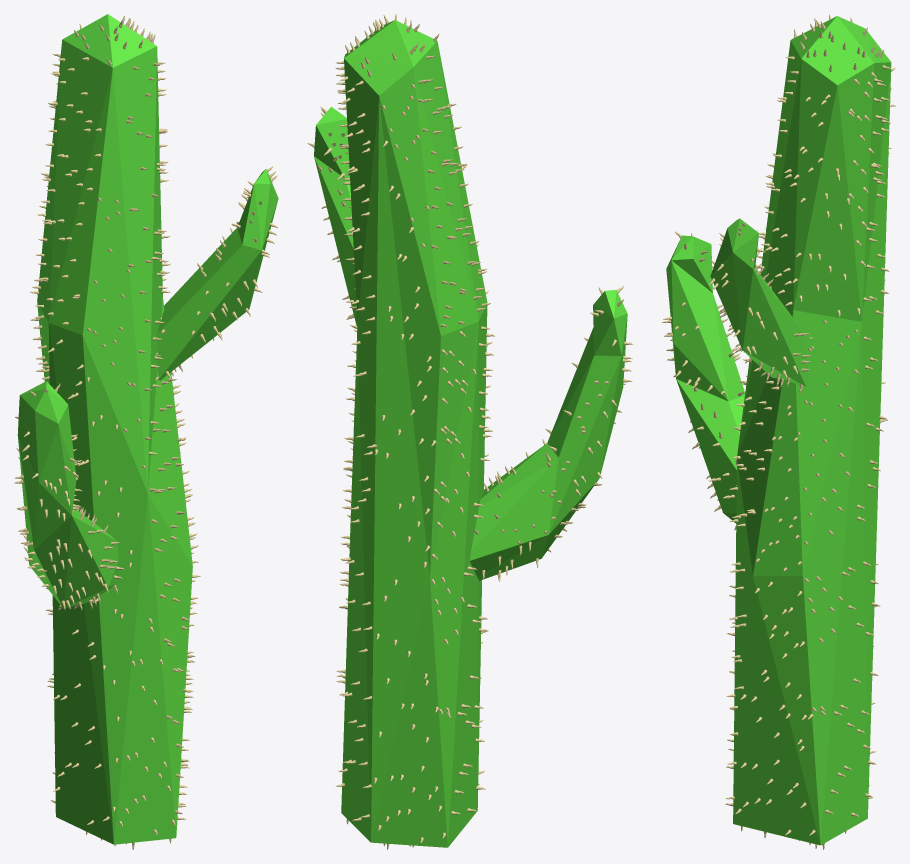
The model's file is cactus.fbx.
3 renders of one model, left to right at view 1: azimuth 30°, elevation 25°; view 2: azimuth 150°, elevation 25°; view 3: azimuth 270°, elevation 25°, orthographic. The views are drawn at different scales.
Parts seen in each view (by area): view 1: Cylinder; view 2: Cylinder; view 3: Cylinder.
Boxes of the visible parts, bbox=[...] form: Cylinder: bbox=[17, 14, 278, 844]; Cylinder: bbox=[314, 20, 627, 847]; Cylinder: bbox=[666, 16, 891, 845].
Bounding box in the file's own units: 170 × 120 × 456.
